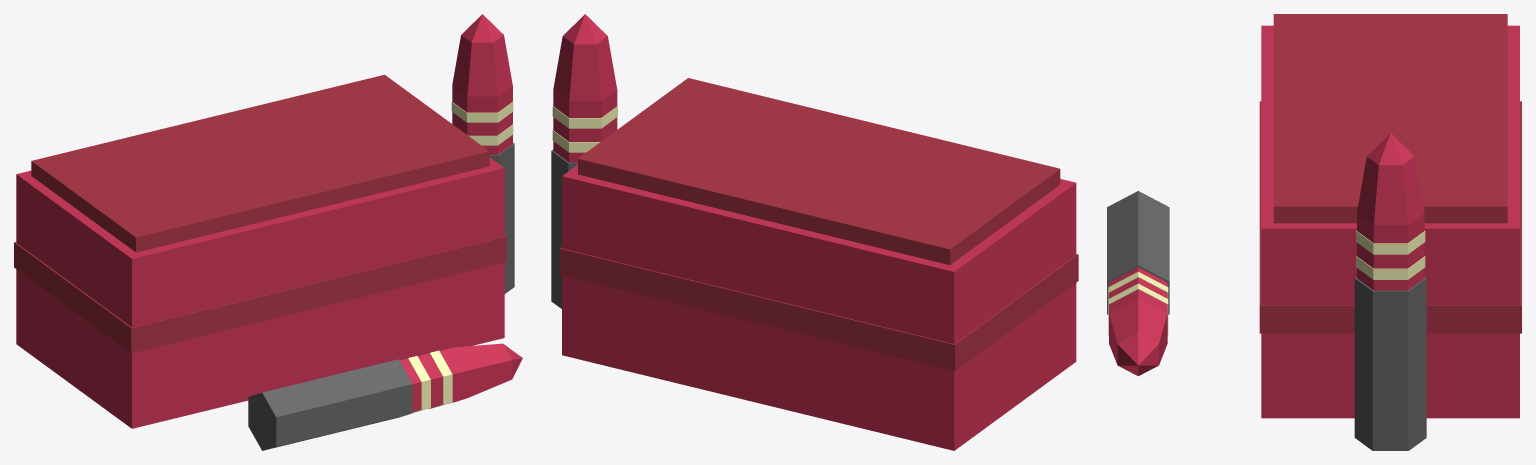
File: ce_ammo2_rcl84_inc_c.obj
The picture shows the model from 3 angles, left to right: view 1: azimuth 30°, elevation 25°; view 2: azimuth 150°, elevation 25°; view 3: azimuth 270°, elevation 25°; orthographic projection. The views are drawn at different scales.
Visible parts, largest first — view 1: ce_ammo2_rcl84_inc_c_0, ce_ammo2_rcl84_inc_c_1, ce_ammo2_rcl84_inc_c_2, ce_ammo2_rcl84_inc_c_11, ce_ammo2_rcl84_inc_c_9, ce_ammo2_rcl84_inc_c_17, ce_ammo2_rcl84_inc_c_3, ce_ammo2_rcl84_inc_c_8, ce_ammo2_rcl84_inc_c_16, ce_ammo2_rcl84_inc_c_6, ce_ammo2_rcl84_inc_c_10, ce_ammo2_rcl84_inc_c_7 (+4 smaller); view 2: ce_ammo2_rcl84_inc_c_0, ce_ammo2_rcl84_inc_c_1, ce_ammo2_rcl84_inc_c_2, ce_ammo2_rcl84_inc_c_9, ce_ammo2_rcl84_inc_c_3, ce_ammo2_rcl84_inc_c_8, ce_ammo2_rcl84_inc_c_6, ce_ammo2_rcl84_inc_c_10, ce_ammo2_rcl84_inc_c_7; view 3: ce_ammo2_rcl84_inc_c_1, ce_ammo2_rcl84_inc_c_0, ce_ammo2_rcl84_inc_c_3, ce_ammo2_rcl84_inc_c_2, ce_ammo2_rcl84_inc_c_11, ce_ammo2_rcl84_inc_c_9, ce_ammo2_rcl84_inc_c_17, ce_ammo2_rcl84_inc_c_18, ce_ammo2_rcl84_inc_c_8, ce_ammo2_rcl84_inc_c_6, ce_ammo2_rcl84_inc_c_10, ce_ammo2_rcl84_inc_c_7 (+4 smaller).
Part boxes in pixels (box(x1,y1,x2,y2)): ce_ammo2_rcl84_inc_c_0: box(16, 157, 504, 428); ce_ammo2_rcl84_inc_c_1: box(31, 74, 489, 252); ce_ammo2_rcl84_inc_c_2: box(14, 235, 506, 353); ce_ammo2_rcl84_inc_c_11: box(248, 359, 412, 450); ce_ammo2_rcl84_inc_c_9: box(452, 35, 512, 96); ce_ammo2_rcl84_inc_c_17: box(455, 343, 512, 397); ce_ammo2_rcl84_inc_c_3: box(489, 143, 514, 293); ce_ammo2_rcl84_inc_c_8: box(452, 85, 512, 112); ce_ammo2_rcl84_inc_c_16: box(439, 347, 467, 403); ce_ammo2_rcl84_inc_c_6: box(452, 112, 512, 135); ce_ammo2_rcl84_inc_c_10: box(461, 14, 503, 42); ce_ammo2_rcl84_inc_c_7: box(451, 101, 513, 122); ce_ammo2_rcl84_inc_c_0: box(562, 165, 1076, 450); ce_ammo2_rcl84_inc_c_1: box(578, 78, 1060, 264); ce_ammo2_rcl84_inc_c_2: box(559, 247, 1078, 371); ce_ammo2_rcl84_inc_c_9: box(553, 36, 616, 100); ce_ammo2_rcl84_inc_c_3: box(551, 149, 577, 308); ce_ammo2_rcl84_inc_c_8: box(553, 89, 617, 117); ce_ammo2_rcl84_inc_c_6: box(553, 117, 617, 141); ce_ammo2_rcl84_inc_c_10: box(563, 14, 607, 44); ce_ammo2_rcl84_inc_c_7: box(552, 106, 617, 128); ce_ammo2_rcl84_inc_c_1: box(1273, 14, 1507, 223); ce_ammo2_rcl84_inc_c_0: box(1261, 25, 1519, 418); ce_ammo2_rcl84_inc_c_3: box(1354, 277, 1426, 450); ce_ammo2_rcl84_inc_c_2: box(1259, 101, 1521, 333); ce_ammo2_rcl84_inc_c_11: box(1107, 191, 1169, 314); ce_ammo2_rcl84_inc_c_9: box(1357, 156, 1424, 225); ce_ammo2_rcl84_inc_c_17: box(1109, 297, 1167, 364); ce_ammo2_rcl84_inc_c_18: box(1117, 333, 1158, 376); ce_ammo2_rcl84_inc_c_8: box(1357, 213, 1424, 243); ce_ammo2_rcl84_inc_c_6: box(1357, 242, 1424, 268); ce_ammo2_rcl84_inc_c_10: box(1367, 133, 1414, 165); ce_ammo2_rcl84_inc_c_7: box(1356, 230, 1425, 254).
Bounding box in the file's own units: 0.9087 × 0.546 × 0.6737.
